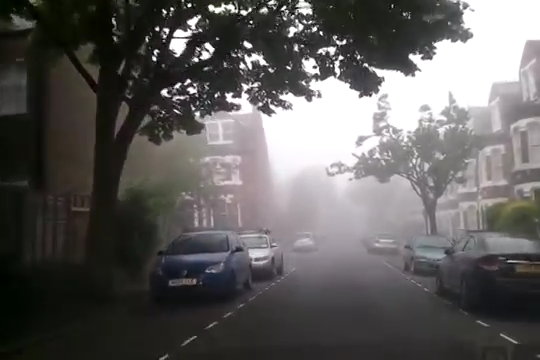car: (429, 230, 540, 314), (146, 230, 253, 299), (221, 228, 285, 280), (400, 232, 456, 277), (366, 233, 399, 254), (291, 232, 319, 252)
